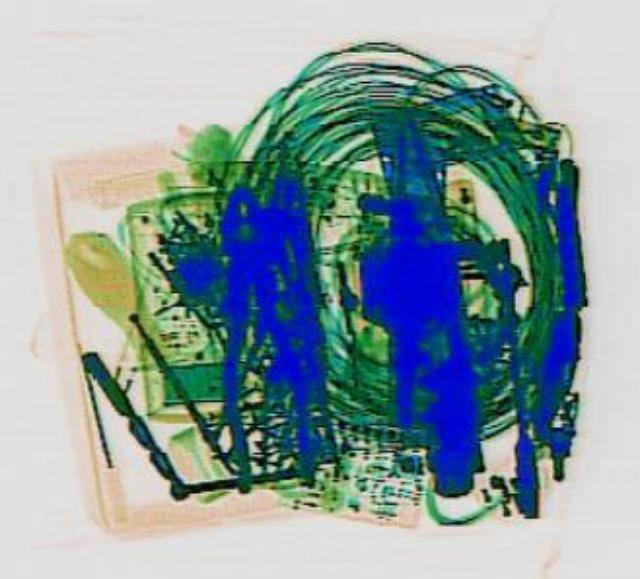Pliers: (196, 178, 314, 491)
